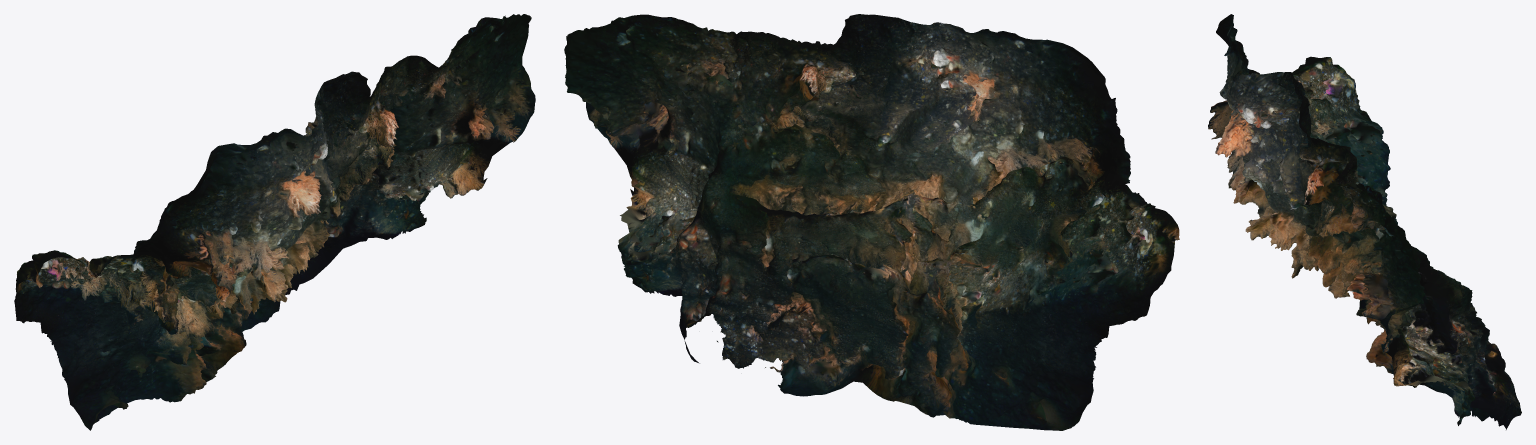
The model's file is sea_fan_corals-v2.glb.
The picture shows the model from 3 angles, left to right: view 1: azimuth 30°, elevation 25°; view 2: azimuth 150°, elevation 25°; view 3: azimuth 270°, elevation 25°; orthographic projection. The views are drawn at different scales.
Parts seen in each view (by area): view 1: Object_5, Object_2; view 2: Object_5, Object_2; view 3: Object_5, Object_2.
Part boxes in pixels (bbox=[...]): Object_5: bbox=[14, 16, 505, 430]; Object_2: bbox=[41, 14, 535, 419]; Object_5: bbox=[614, 14, 1179, 430]; Object_2: bbox=[564, 14, 1150, 430]; Object_5: bbox=[1215, 14, 1521, 429]; Object_2: bbox=[1208, 40, 1511, 425].
Size of the model in its own units: 12.05 by 6.89 by 5.55.
Materials: 2 (2 with a texture image).
